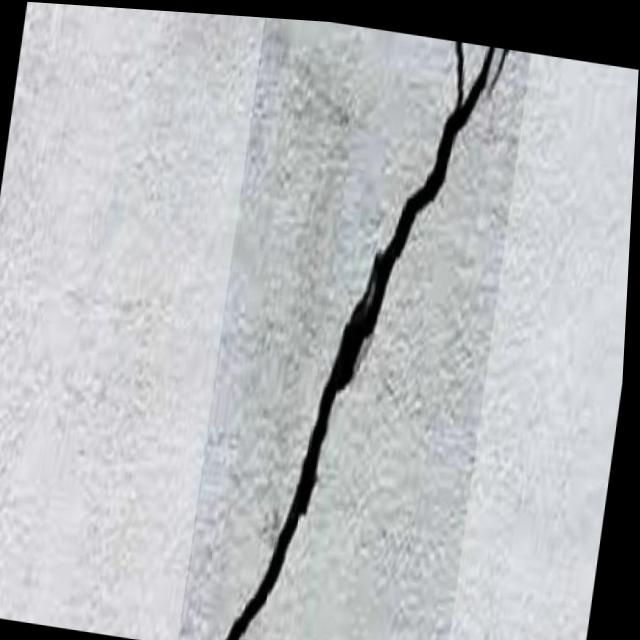Crack: (168, 10, 527, 640)
